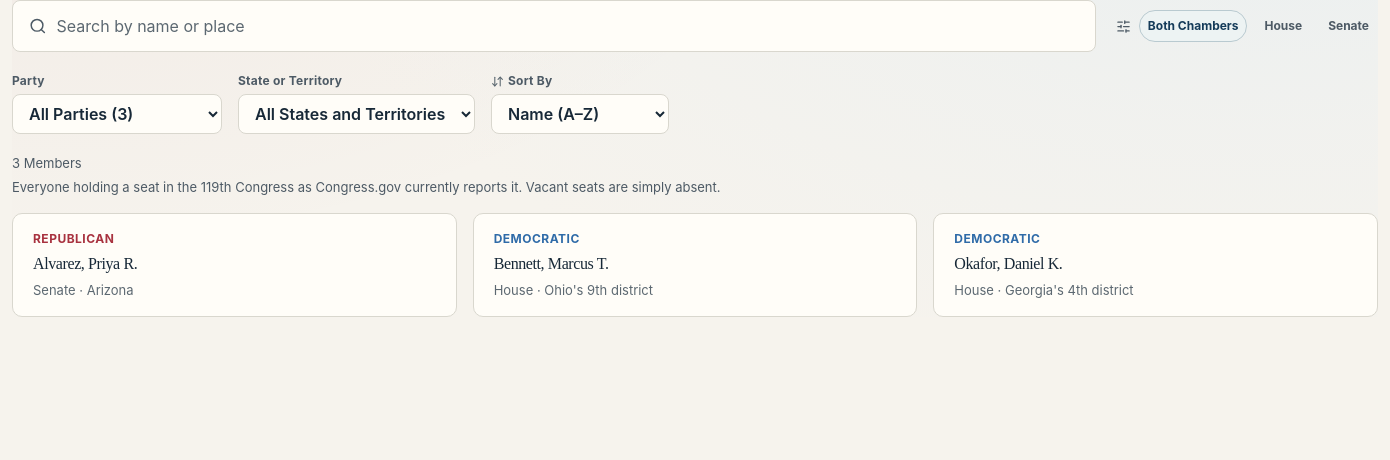
it: MemberDirectory › carries out the empty state's own advice rather than only giving it
This screenshot has width=1390, height=460.
Type "nobody" into the search field named "Search members" at (567, 26), box [55,13,1079,39]
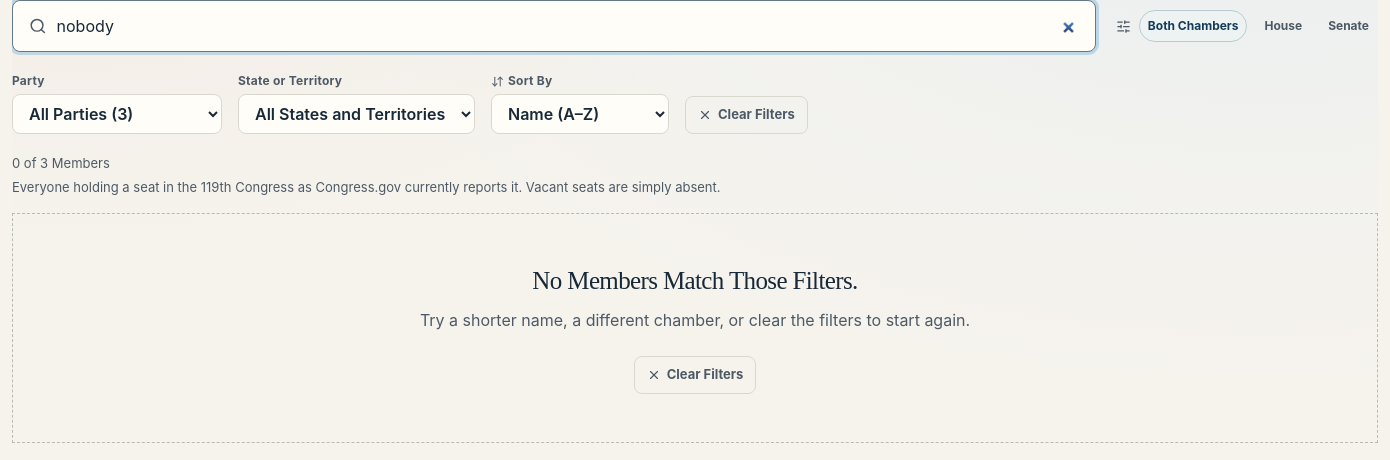
Click the button "Clear Filters" below "No Members Match Those Filters." at (695, 374), box [634,356,756,394]
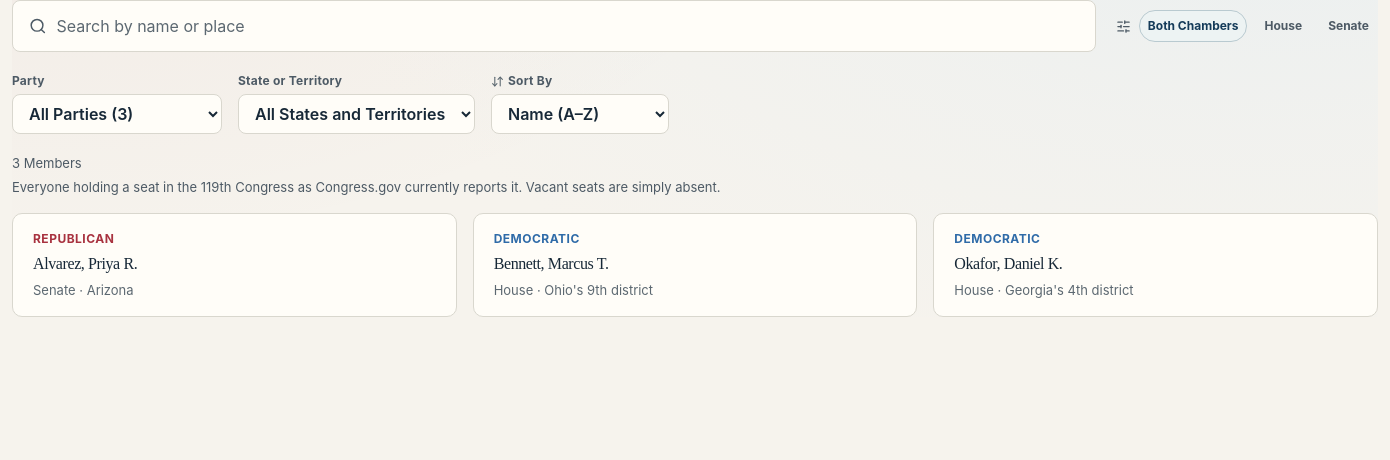
Expected: the number of links is 3, [33,255,137,272]; [494,255,609,272]; [954,255,1062,272]
Expected: the search field named "Search members" is empty, [55,13,1079,39]
